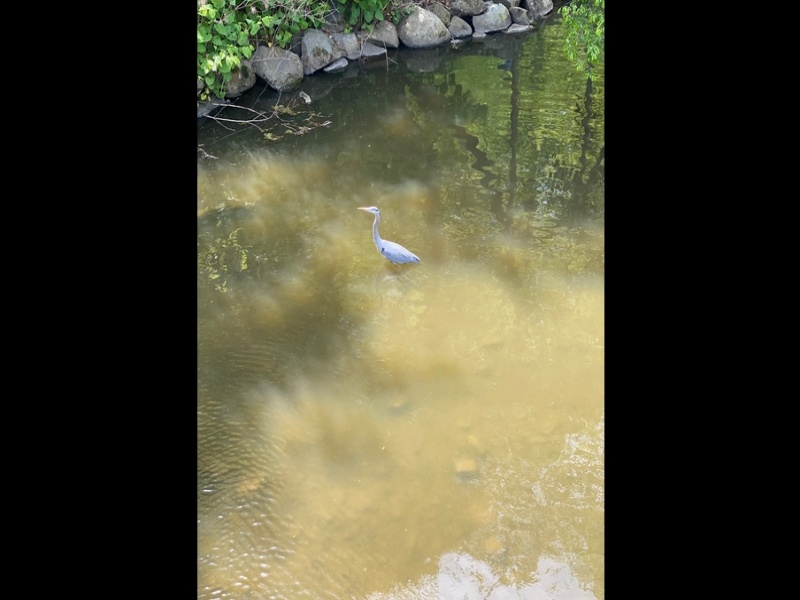heron: (357, 201, 420, 269)
